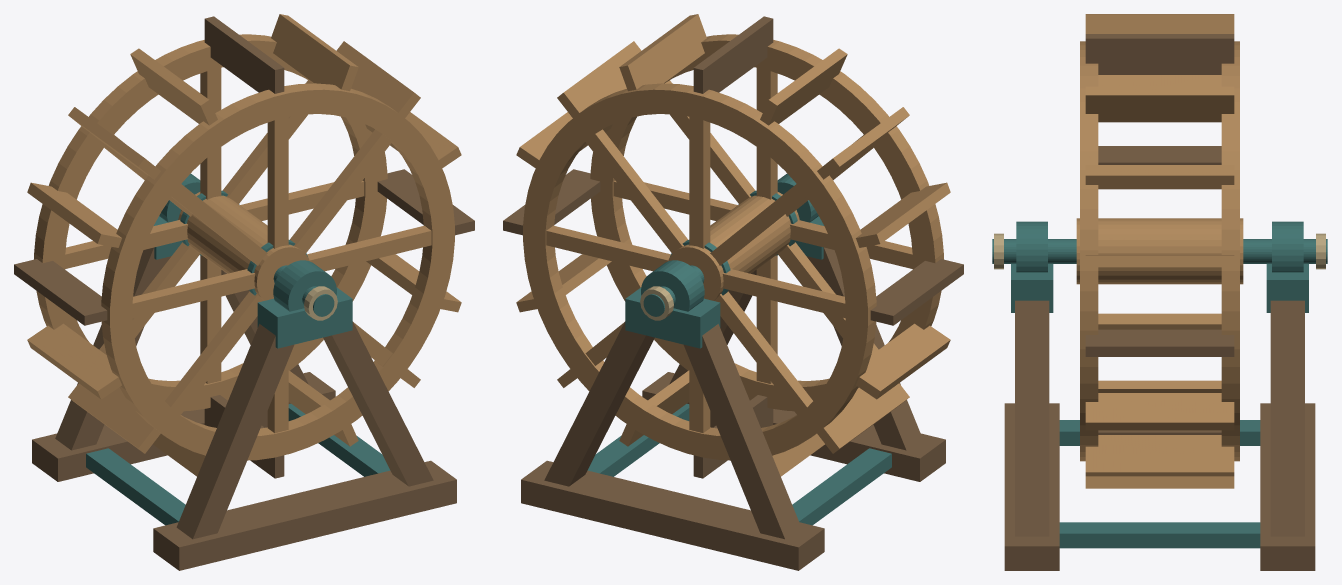
3 views of the same model, side by side, from view 1: azimuth 30°, elevation 25°; view 2: azimuth 150°, elevation 25°; view 3: azimuth 270°, elevation 25° (orthographic). The views are drawn at different scales.
Parts seen in each view (by area): view 1: WaterRim_Front, WaterRim_Rear, GroundFoot_Front, FrameLeg_Front_Left, FrameLeg_Front_Right, WheelHub, GroundFoot_Rear, WaterPaddle_04, WaterPaddle_10, WaterPaddle_05, BaseTie_Left, Spoke_Front_02 (+30 smaller); view 2: WaterRim_Rear, WaterRim_Front, GroundFoot_Rear, FrameLeg_Rear_Left, FrameLeg_Rear_Right, WheelHub, GroundFoot_Front, WaterPaddle_04, WaterPaddle_10, WaterPaddle_05, BaseTie_Left, Spoke_Rear_02 (+30 smaller); view 3: FrameLeg_Front_Right, FrameLeg_Rear_Right, WheelHub, WaterRim_Front, WaterRim_Rear, WaterPaddle_15, WaterPaddle_05, WaterPaddle_16, BaseTie_Right, WaterPaddle_04, GroundFoot_Front, GroundFoot_Rear (+16 smaller).
Boxes of the visible parts, x1=… form: WaterRim_Front: x1=101, y1=83, x2=454, y2=460; WaterRim_Rear: x1=34, y1=34, x2=387, y2=411; GroundFoot_Front: x1=153, y1=460, x2=456, y2=570; FrameLeg_Front_Left: x1=176, y1=324, x2=294, y2=539; FrameLeg_Front_Right: x1=323, y1=321, x2=433, y2=486; WheelHub: x1=178, y1=192, x2=309, y2=300; GroundFoot_Rear: x1=32, y1=372, x2=335, y2=481; WaterPaddle_04: x1=271, y1=14, x2=358, y2=91; WaterPaddle_10: x1=27, y1=323, x2=121, y2=399; WaterPaddle_05: x1=204, y1=16, x2=284, y2=93; BaseTie_Left: x1=86, y1=448, x2=185, y2=525; Spoke_Front_02: x1=290, y1=129, x2=392, y2=253; WaterRim_Rear: x1=523, y1=83, x2=876, y2=460; WaterRim_Front: x1=590, y1=34, x2=943, y2=411; GroundFoot_Rear: x1=521, y1=460, x2=824, y2=570; FrameLeg_Rear_Left: x1=683, y1=324, x2=801, y2=539; FrameLeg_Rear_Right: x1=544, y1=321, x2=654, y2=486; WheelHub: x1=668, y1=192, x2=799, y2=300; GroundFoot_Front: x1=642, y1=372, x2=945, y2=481; WaterPaddle_04: x1=619, y1=14, x2=706, y2=91; WaterPaddle_10: x1=856, y1=323, x2=950, y2=399; WaterPaddle_05: x1=693, y1=16, x2=773, y2=93; BaseTie_Left: x1=792, y1=448, x2=891, y2=525; Spoke_Rear_02: x1=585, y1=129, x2=687, y2=253; FrameLeg_Front_Right: x1=1015, y1=300, x2=1049, y2=536; FrameLeg_Rear_Right: x1=1270, y1=300, x2=1304, y2=536; WheelHub: x1=1076, y1=218, x2=1243, y2=284; WaterRim_Front: x1=1080, y1=41, x2=1098, y2=461; WaterRim_Rear: x1=1221, y1=41, x2=1239, y2=461; WaterPaddle_15: x1=1085, y1=435, x2=1234, y2=476; WaterPaddle_05: x1=1085, y1=34, x2=1234, y2=74; WaterPaddle_16: x1=1085, y1=393, x2=1234, y2=430; BaseTie_Right: x1=1059, y1=522, x2=1260, y2=548; WaterPaddle_04: x1=1085, y1=86, x2=1234, y2=122; GroundFoot_Front: x1=1004, y1=403, x2=1059, y2=570; GroundFoot_Rear: x1=1260, y1=403, x2=1315, y2=570.
Size of the model in its own units: 2.08 by 2.24 by 1.47.
